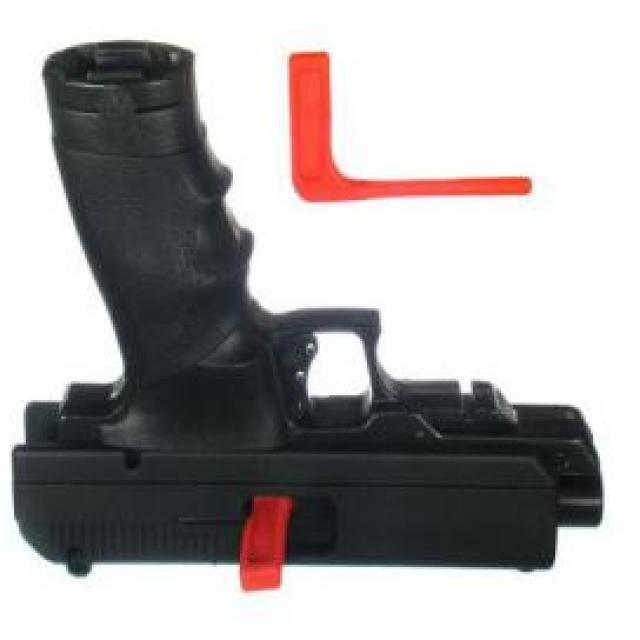pistol: (11, 36, 604, 576)
